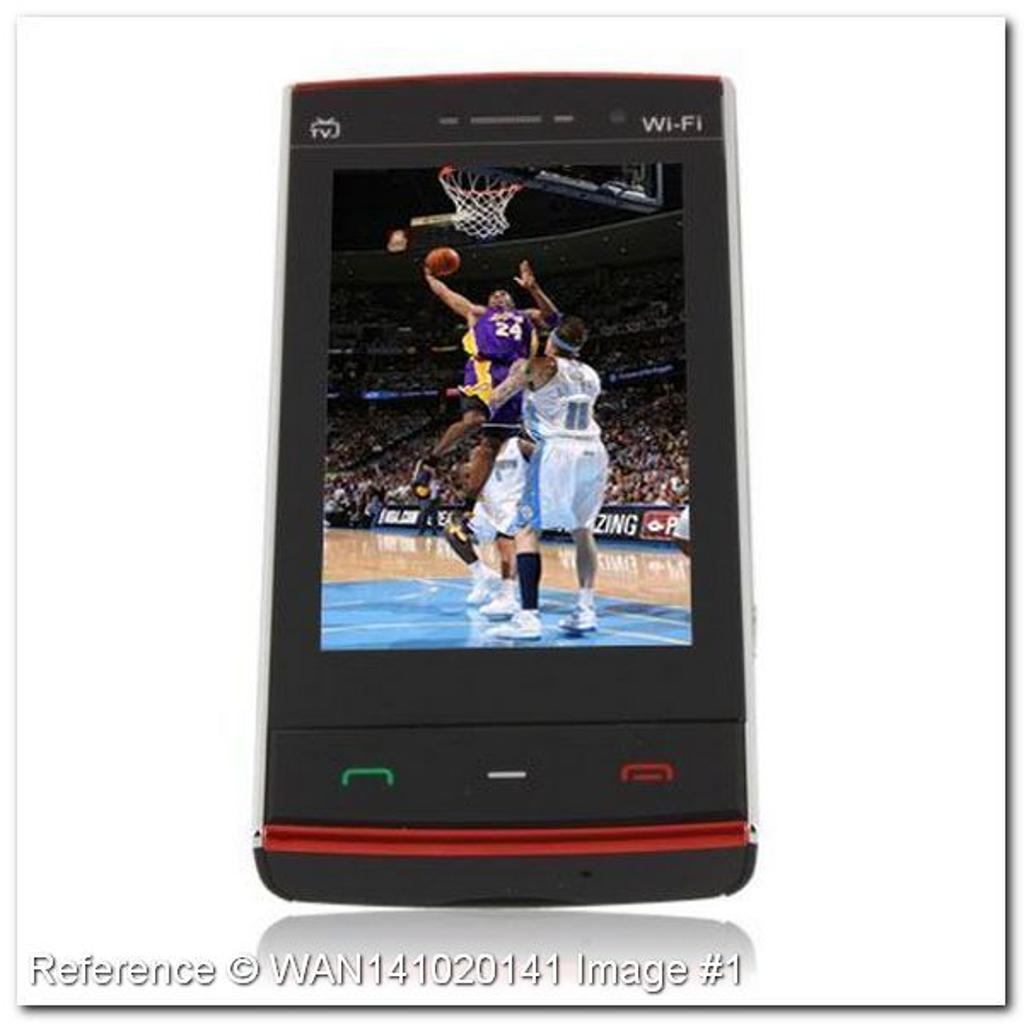face: (489, 290, 509, 305)
